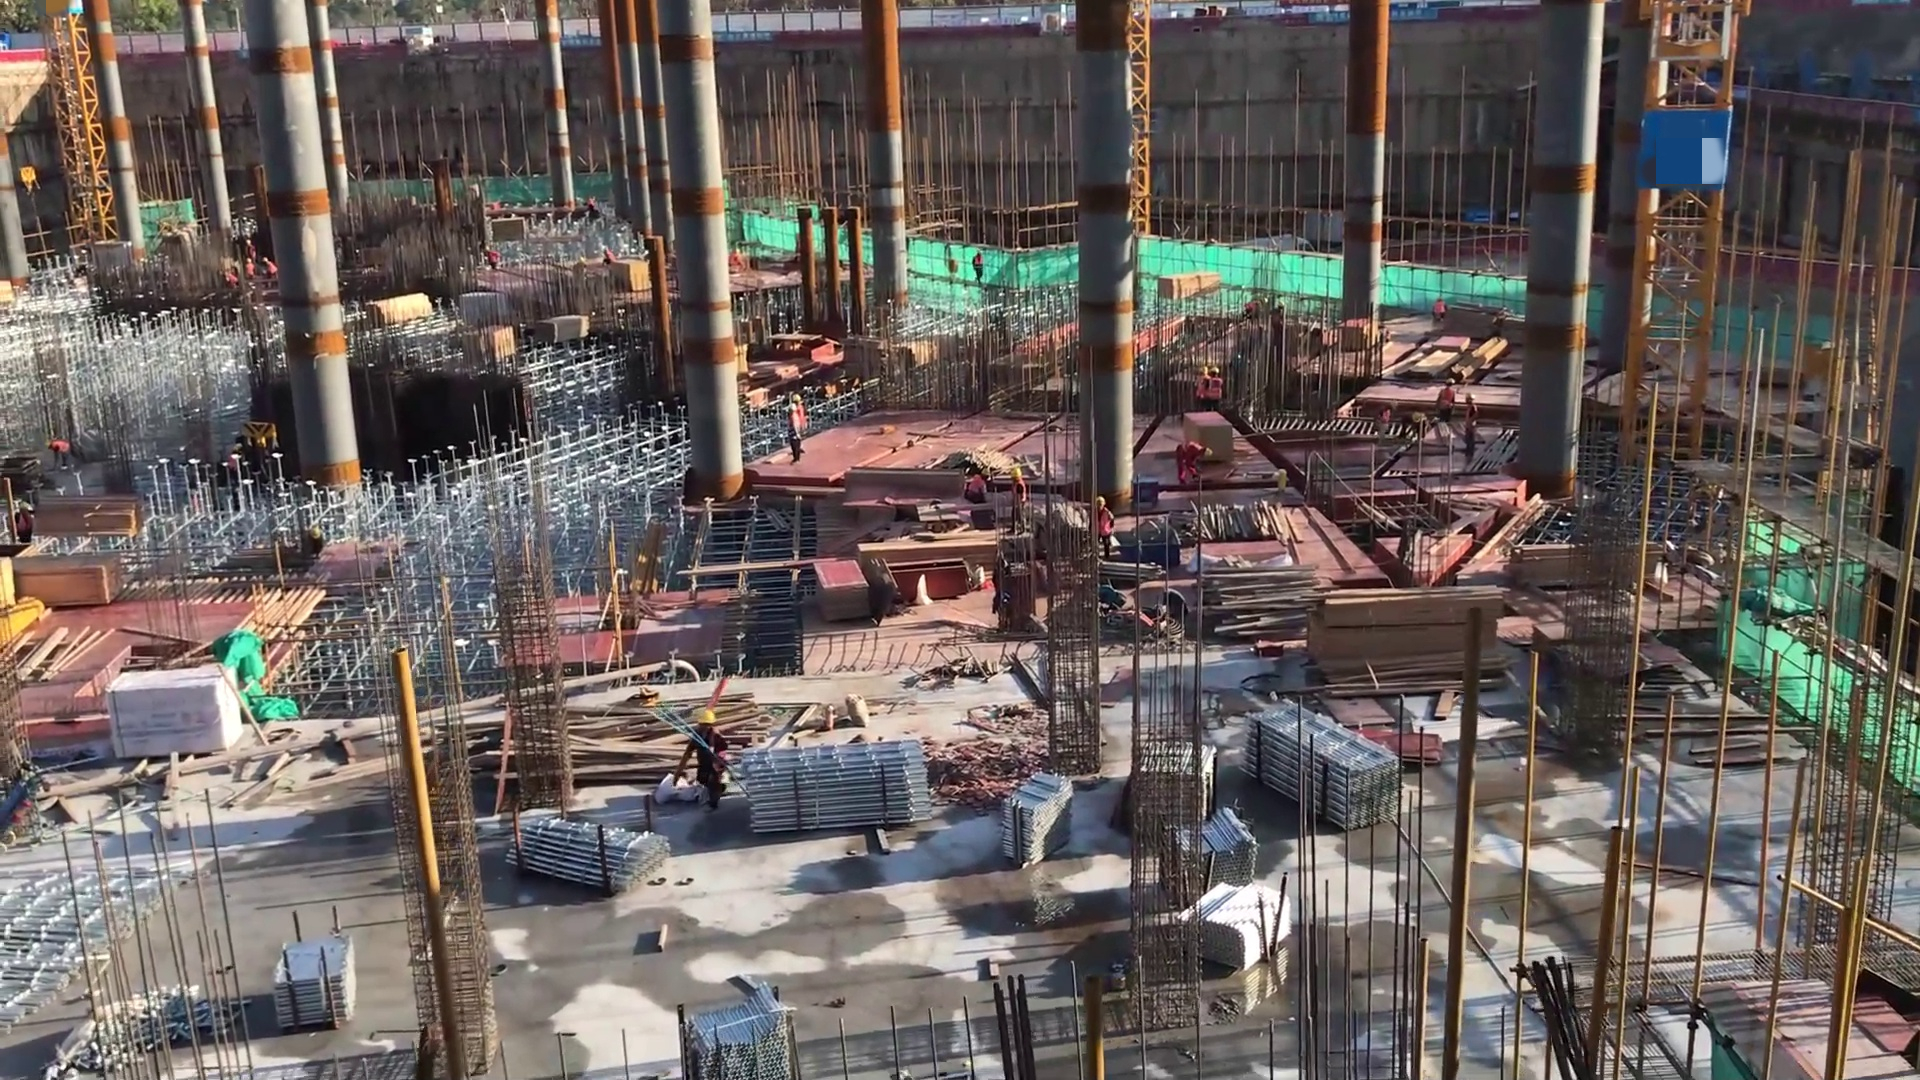helmet: (694, 707, 723, 734), (1199, 441, 1213, 463), (1011, 466, 1027, 482), (1412, 410, 1425, 427), (18, 498, 30, 512), (786, 402, 798, 415), (44, 438, 54, 452), (1388, 400, 1400, 412), (1092, 498, 1105, 509), (979, 467, 991, 478), (1209, 368, 1223, 377), (1445, 375, 1455, 388), (792, 393, 805, 402), (1466, 393, 1477, 402)
person: (678, 704, 732, 820), (1001, 465, 1038, 556), (1091, 495, 1119, 570), (1174, 438, 1218, 485), (785, 393, 815, 461), (1436, 375, 1464, 446), (10, 491, 38, 553), (959, 460, 992, 512), (40, 429, 71, 481), (1464, 389, 1482, 461), (1210, 354, 1226, 426), (1408, 405, 1435, 445), (1430, 286, 1448, 335), (217, 264, 243, 299), (1379, 398, 1399, 443), (235, 229, 258, 264), (1192, 368, 1210, 405), (598, 238, 617, 271), (480, 244, 504, 271), (1496, 302, 1511, 342), (240, 258, 257, 292), (259, 258, 281, 282)
vest: (1096, 509, 1115, 540), (967, 473, 987, 502), (1175, 439, 1200, 462), (1436, 386, 1454, 417), (1013, 480, 1031, 509), (1464, 403, 1478, 436), (1211, 377, 1224, 403), (53, 439, 69, 456)
